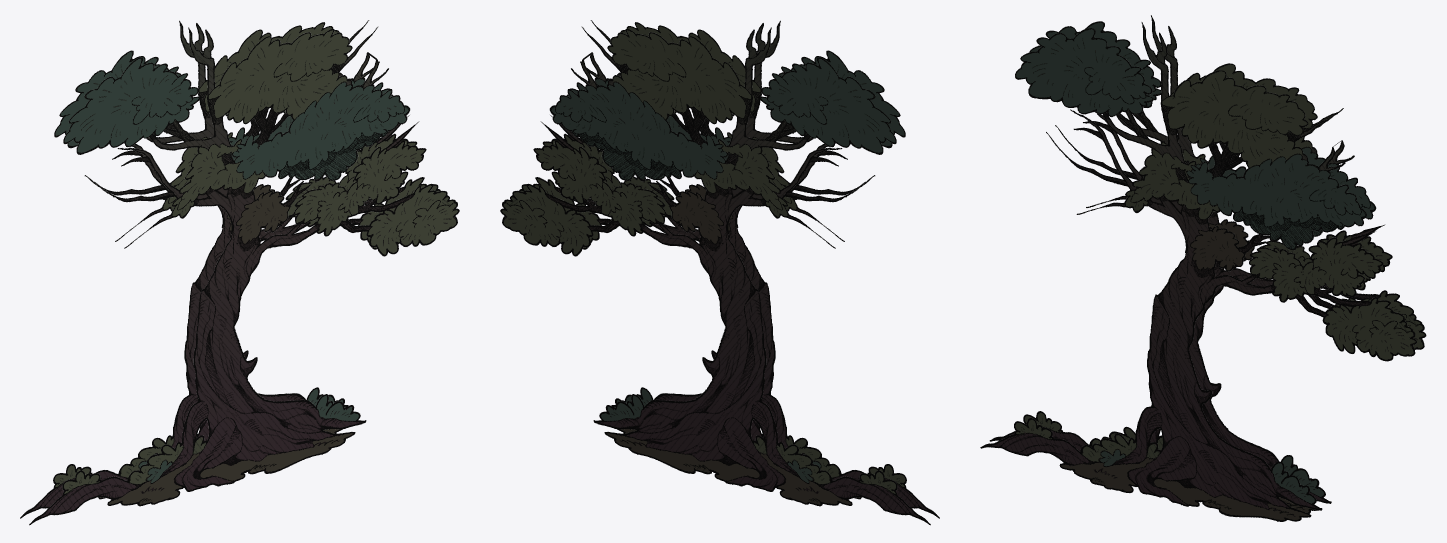
File: Tree_JG_1.fbx
3 views of the same model, side by side, from view 1: azimuth 30°, elevation 25°; view 2: azimuth 150°, elevation 25°; view 3: azimuth 330°, elevation 25° (orthographic).
Parts seen in each view (by area): view 1: Tree_JG_1; view 2: Tree_JG_1; view 3: Tree_JG_1.
Part boxes in pixels (bbox=[...]): Tree_JG_1: bbox=[20, 20, 459, 525]; Tree_JG_1: bbox=[500, 20, 939, 525]; Tree_JG_1: bbox=[980, 15, 1426, 521].
Size of the model in its own units: 336 by 344 by 12.
